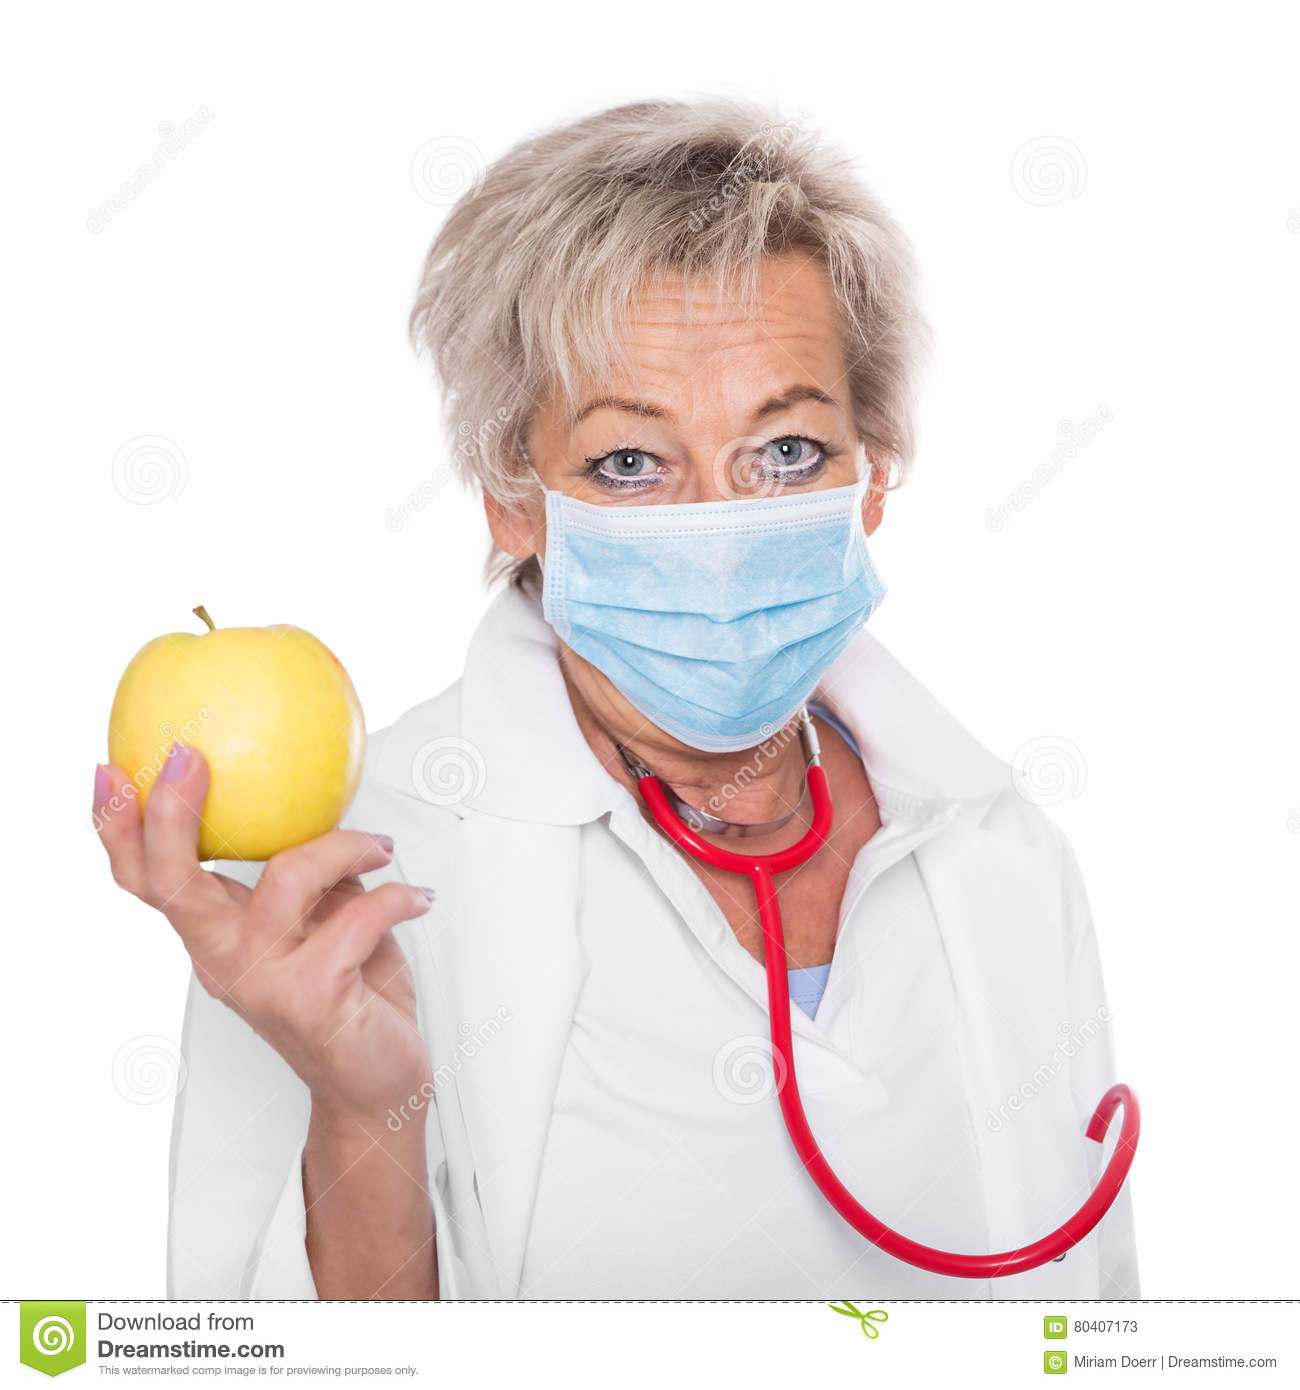mask: (541, 513, 888, 737)
